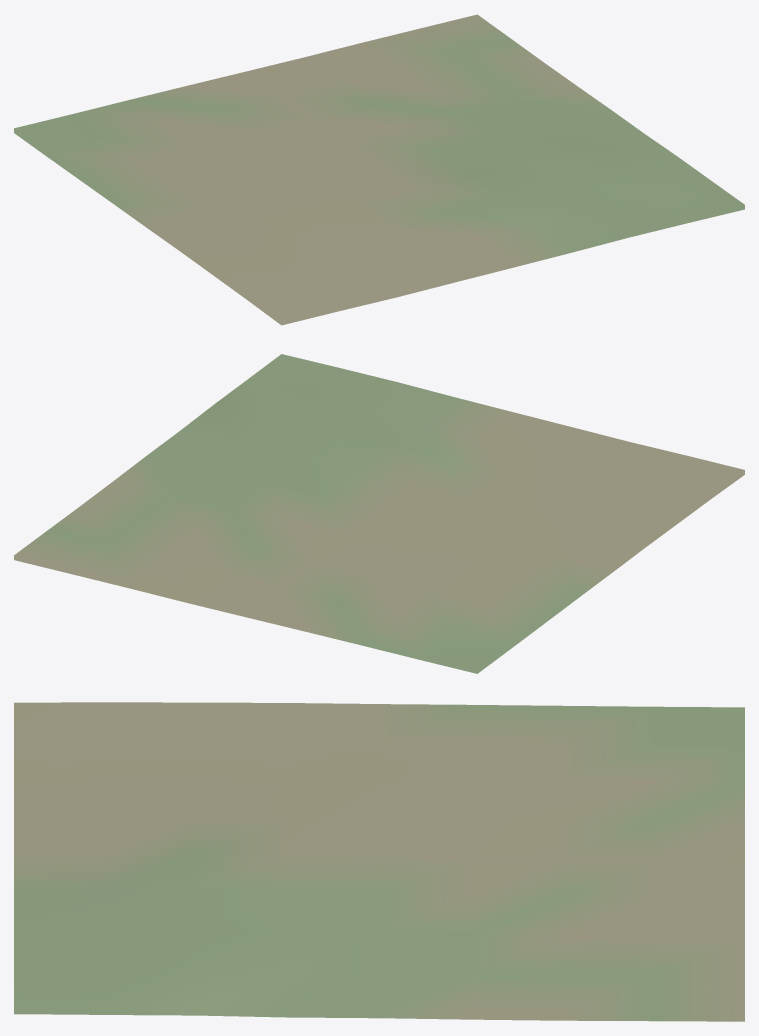
The picture shows the model from 3 angles, top to bottom: view 1: azimuth 30°, elevation 25°; view 2: azimuth 150°, elevation 25°; view 3: azimuth 270°, elevation 25°; orthographic projection. The views are drawn at different scales.
Parts seen in each view (by area): view 1: prim0; view 2: prim0; view 3: prim0.
Part boxes in pixels (x1,y1,x2,y2): prim0: (14,14,744,325); prim0: (14,354,744,673); prim0: (14,702,744,1021).
Size of the model in its own units: 512 by 15.38 by 512.
